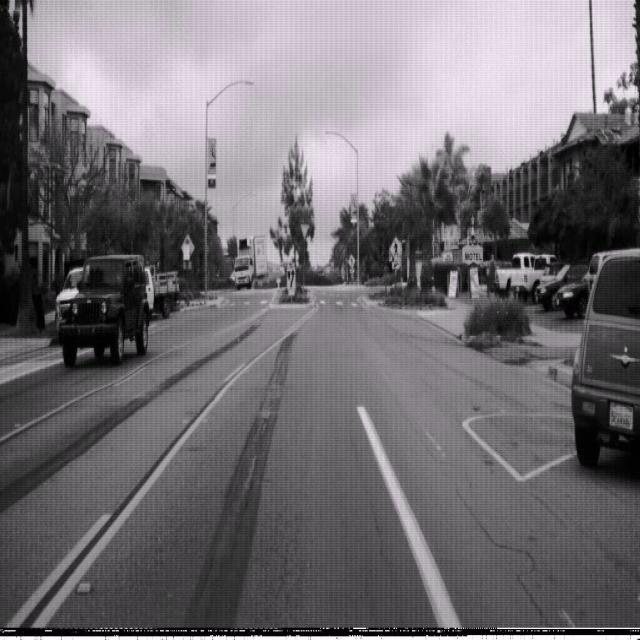pedestrianCrossing: (388, 235, 403, 262)
yield: (299, 222, 310, 240)
